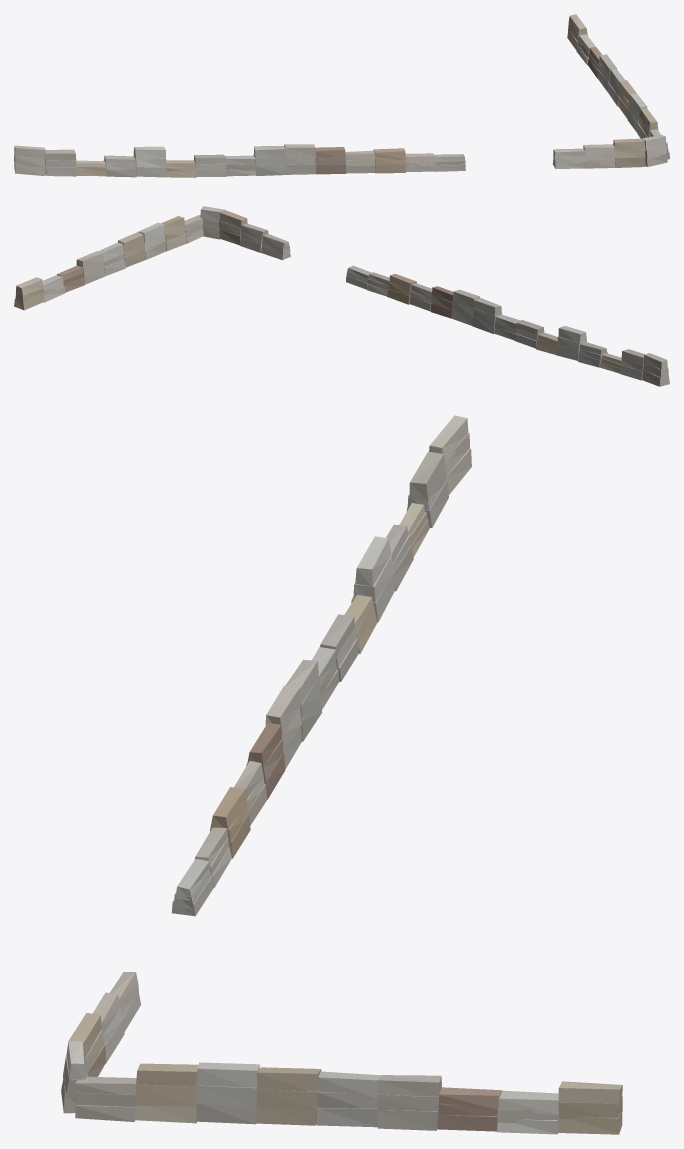
File: farm_-11_3_mid.glb
3 views of the same model, one above another, from view 1: azimuth 30°, elevation 25°; view 2: azimuth 150°, elevation 25°; view 3: azimuth 270°, elevation 25° (orthographic). The views are drawn at different scales.
Parts seen in each view (by area): view 1: geometry_0; view 2: geometry_0; view 3: geometry_0.
Part boxes in pixels (box(x1,y1,x2,y2)): geometry_0: box(14, 14, 669, 177); geometry_0: box(14, 206, 669, 386); geometry_0: box(61, 415, 622, 1134).
Size of the model in its own units: 35.99 by 4.46 by 14.44.
